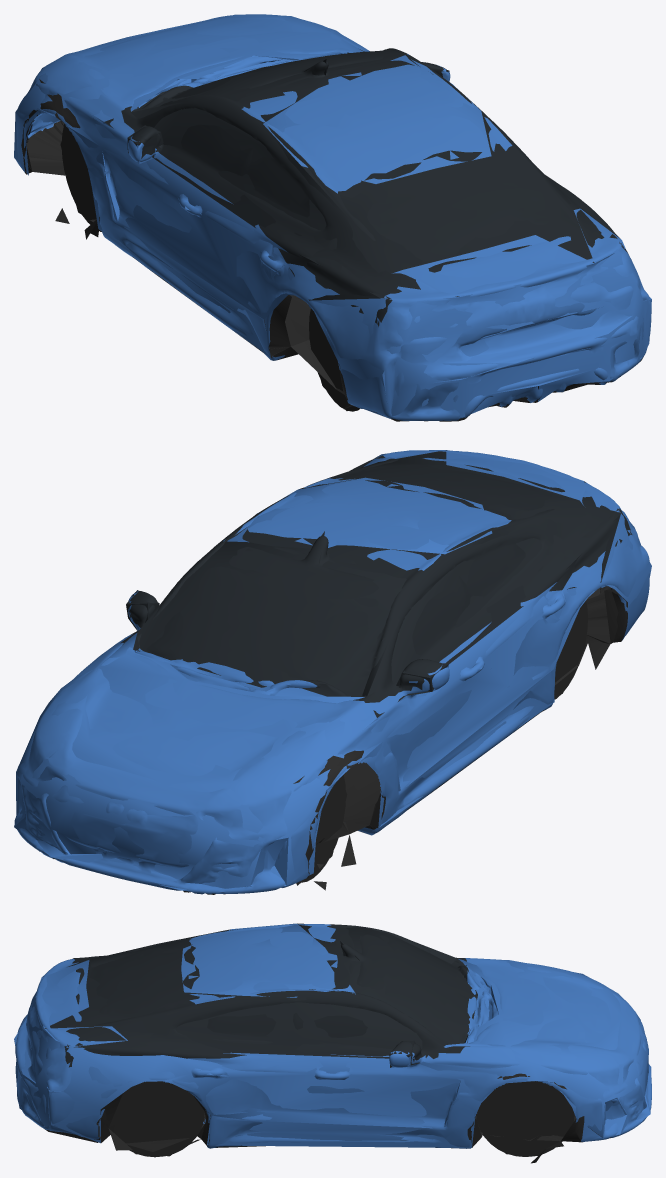
Rendered from audi-s-e-tron.glb.
The picture shows the model from 3 angles, top to bottom: view 1: azimuth 30°, elevation 25°; view 2: azimuth 150°, elevation 25°; view 3: azimuth 270°, elevation 25°; orthographic projection. The views are drawn at different scales.
Visible parts, largest first — view 1: body, far; view 2: body, far; view 3: body, far.
Part boxes in pixels (box(x1,y1,x2,y2)): body: box(14, 14, 651, 421); far: box(14, 14, 651, 418); body: box(14, 450, 649, 894); far: box(14, 450, 651, 890); body: box(15, 924, 651, 1163); far: box(14, 923, 651, 1163).
Bounding box in the file's own units: 2.18 × 1.54 × 5.03.
